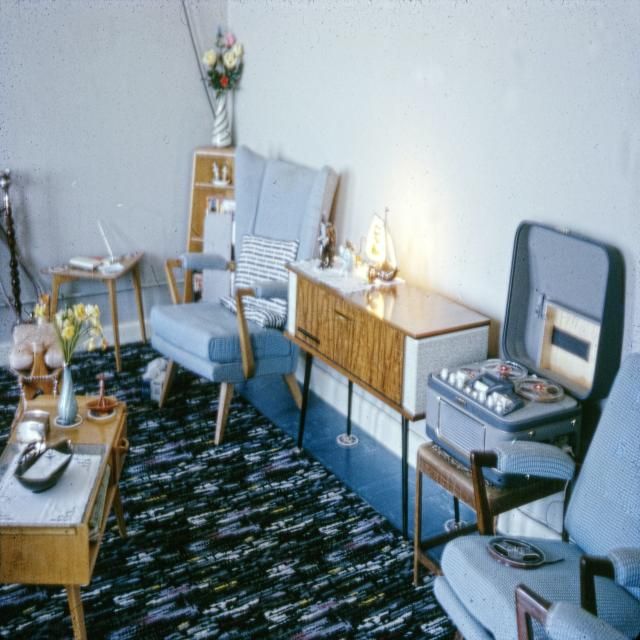floor: (301, 389, 403, 533), (234, 373, 301, 443), (421, 473, 477, 542), (407, 463, 417, 544), (425, 543, 449, 571), (296, 378, 304, 396)
wall: (227, 0, 640, 360), (56, 280, 116, 347), (115, 270, 143, 346), (17, 263, 37, 319)
